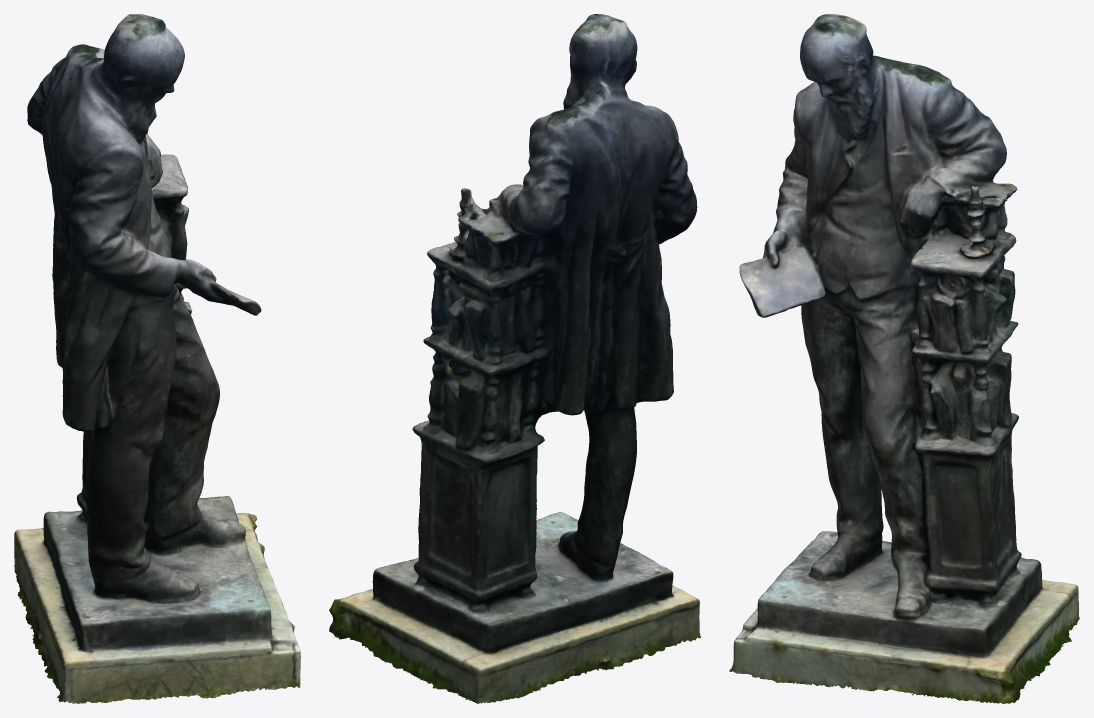
Rendered from dostoevsky-rock.glb.
The picture shows the model from 3 angles, left to right: view 1: azimuth 30°, elevation 25°; view 2: azimuth 150°, elevation 25°; view 3: azimuth 270°, elevation 25°; orthographic projection. The views are drawn at different scales.
Visible parts, largest first — view 1: Object_4; view 2: Object_4; view 3: Object_4.
Part boxes in pixels (x1=…): Object_4: x1=14, y1=14, x2=300, y2=703; Object_4: x1=329, y1=14, x2=700, y2=703; Object_4: x1=729, y1=14, x2=1079, y2=703.
Bounding box in the file's own units: 3.3 × 6.97 × 3.64.
1 material, 1 textured.
